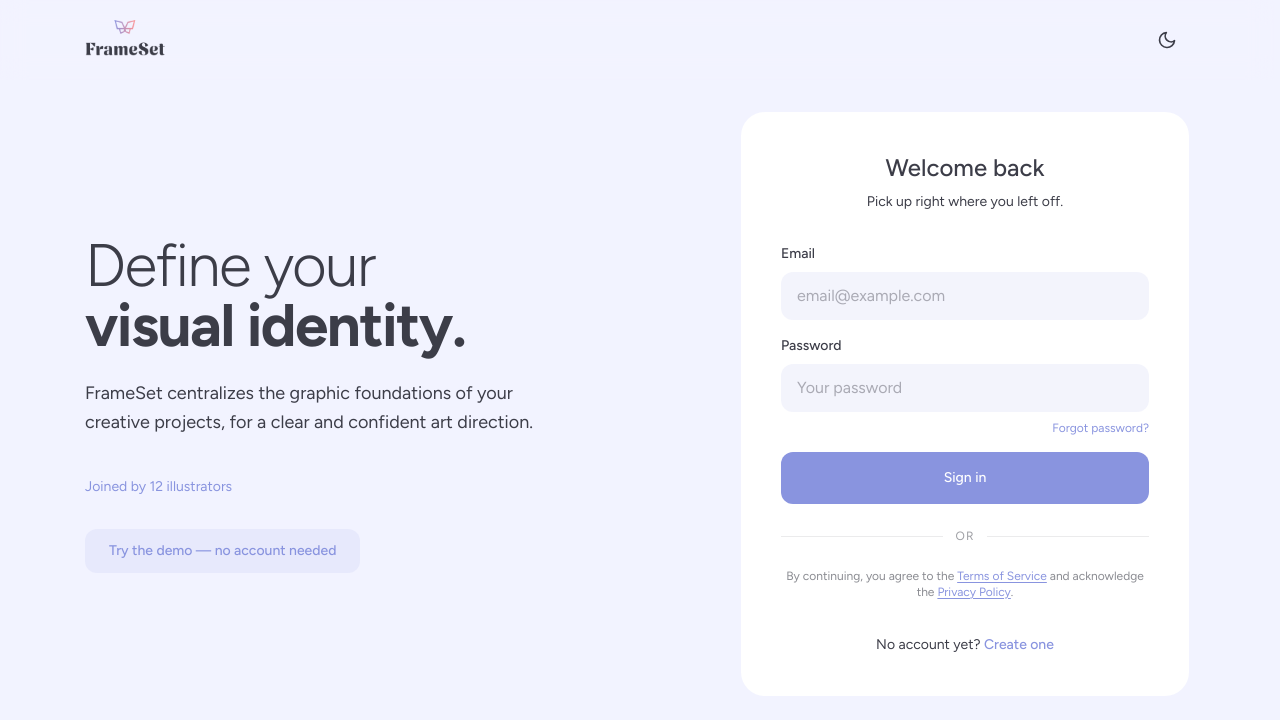
Test: Login › shows the error message returned by the API
Type "axelle@example.com" into the field with placeholder "email@example.com" at [965, 296], box [781,272,1149,320]
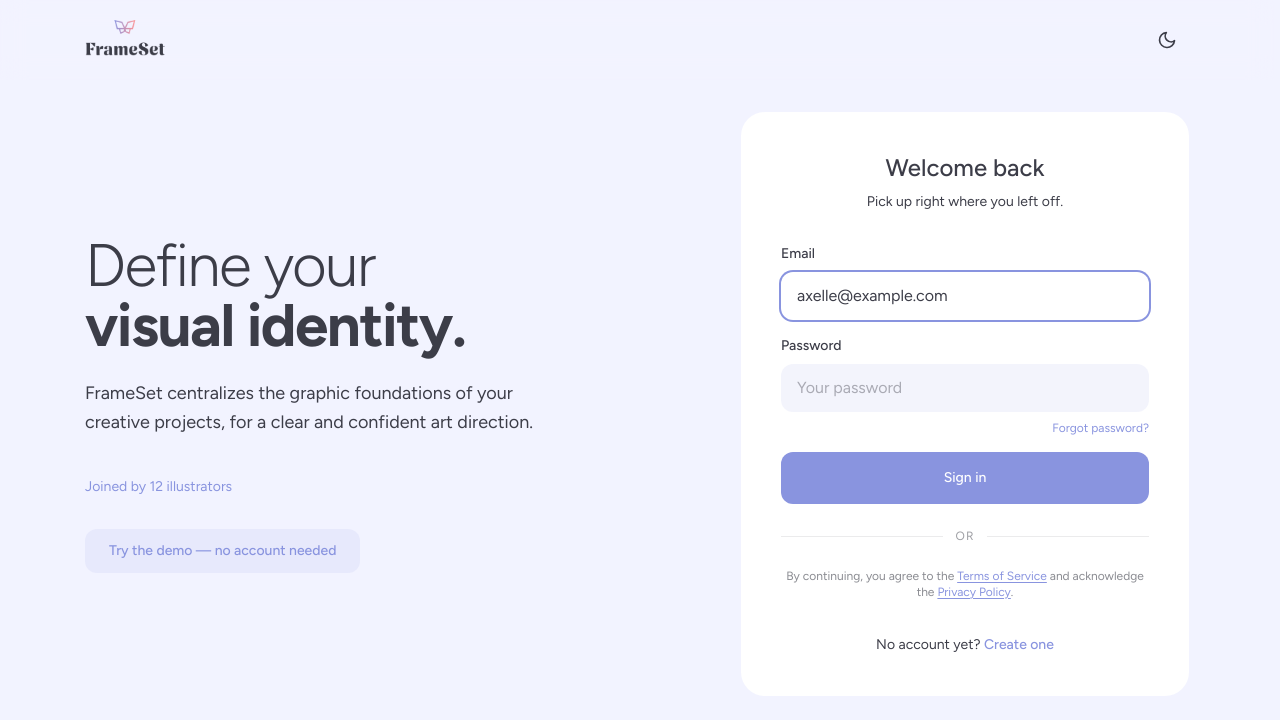
Type "wrong" into the password field with placeholder "Your password" at [965, 388], box [781,364,1149,412]
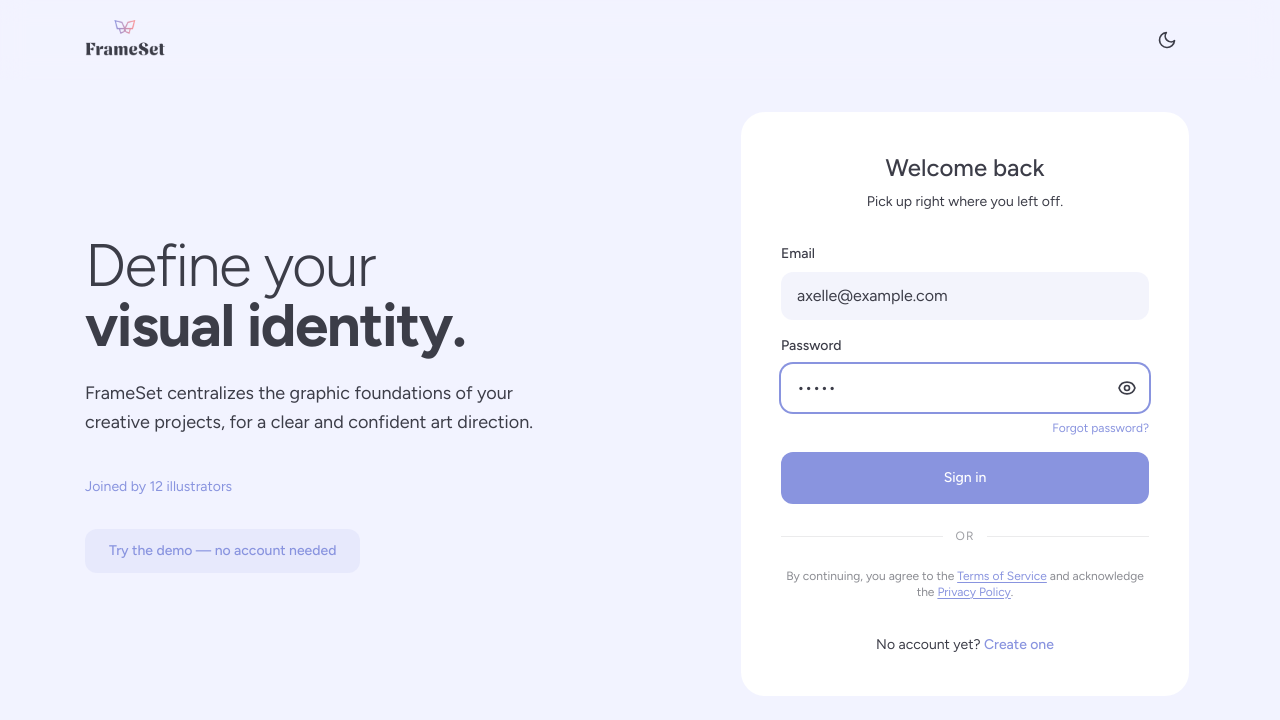
Click the button "Sign in" at [965, 478], box [781,452,1149,504]
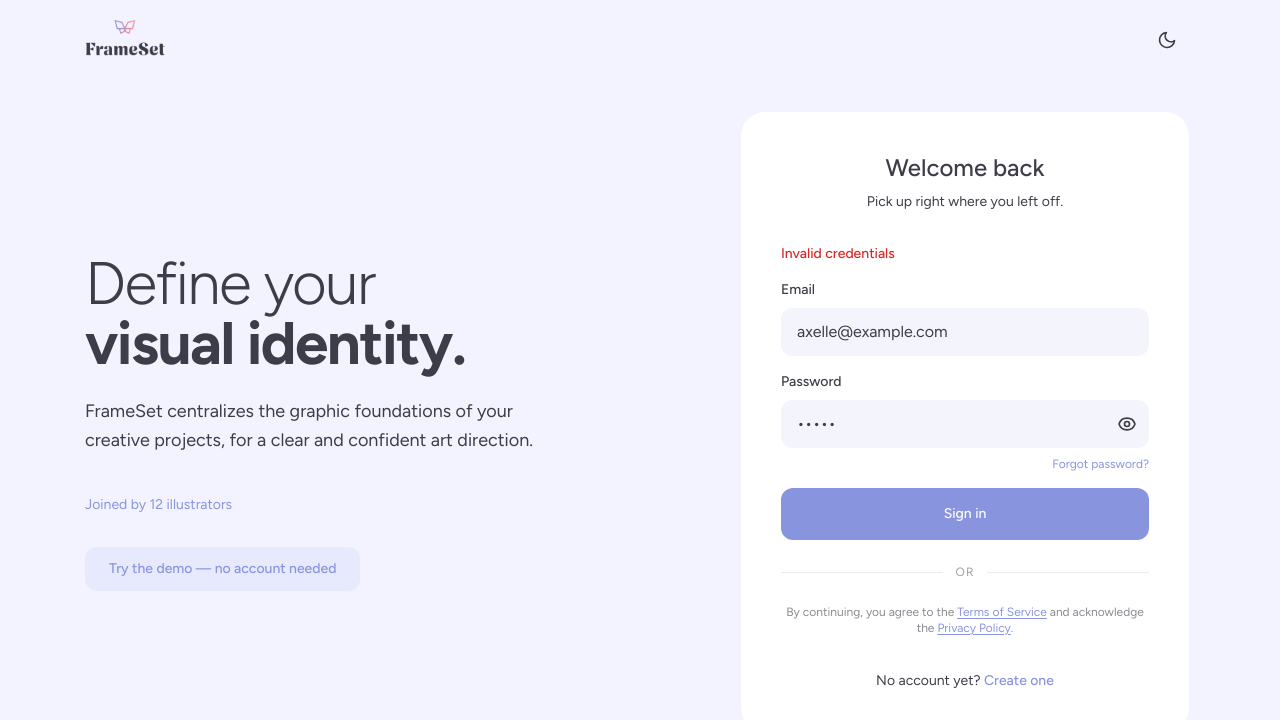
Check: the text "Invalid credentials" is shown, box [781,245,895,262]
